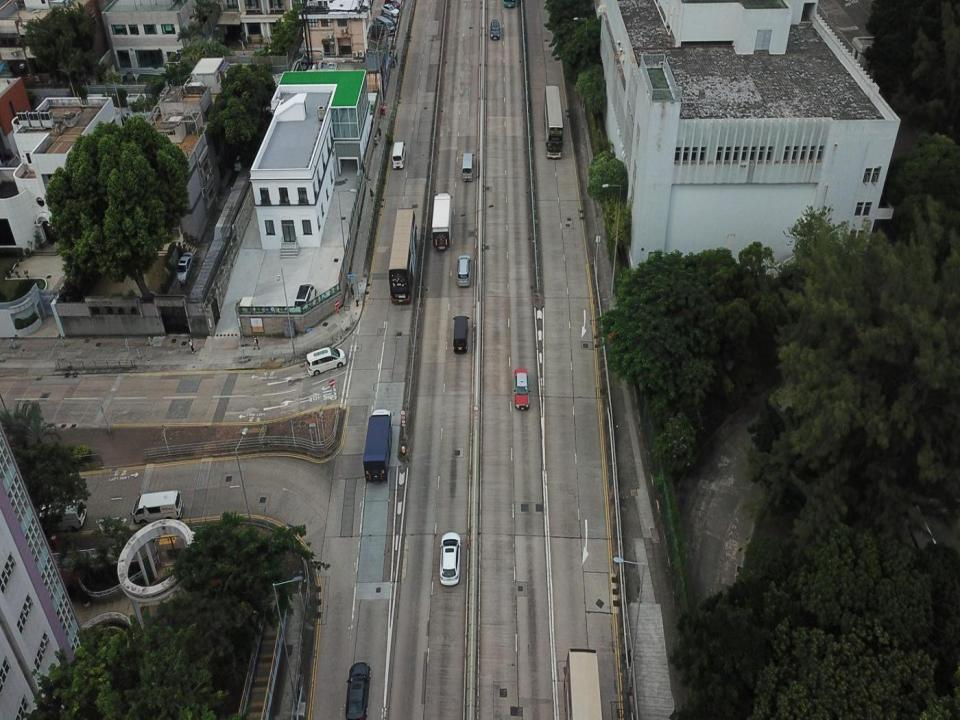bus: (563, 648, 602, 719), (388, 208, 416, 306), (545, 84, 564, 159)
car: (346, 662, 370, 719), (440, 530, 460, 584), (513, 368, 531, 410), (175, 251, 191, 285), (458, 256, 471, 287), (381, 3, 400, 19), (490, 19, 501, 42), (382, 0, 400, 7), (500, 0, 515, 8)
truck: (364, 408, 392, 485), (432, 194, 451, 250)
van: (133, 490, 184, 524), (37, 502, 85, 530), (305, 347, 346, 378), (452, 315, 468, 354), (460, 151, 474, 183), (376, 14, 396, 33), (393, 143, 404, 169)
